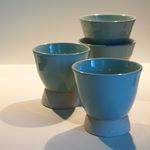cups: (69, 56, 146, 140), (30, 40, 90, 112)
